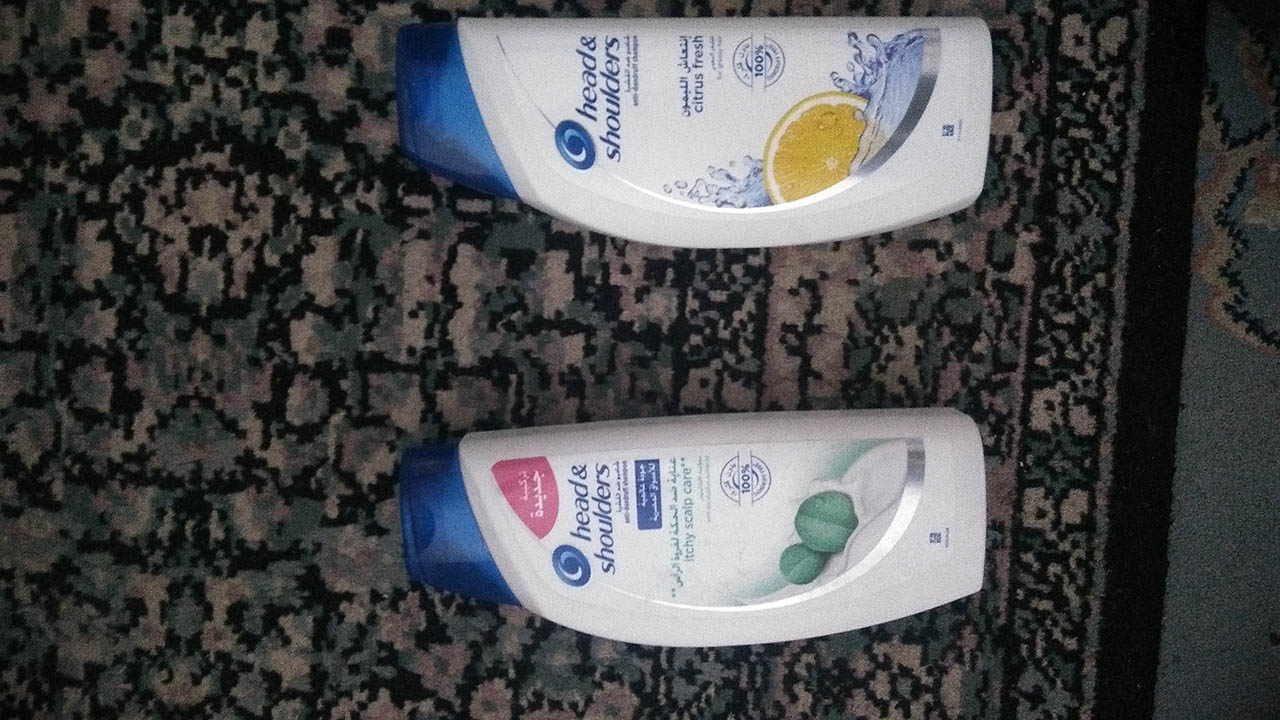shampoo-Lemon 3.5$: (388, 1, 1001, 246)
shampoo-green 4.5$: (369, 425, 1024, 631)
